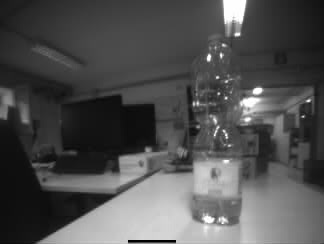Bottle: (191, 33, 242, 223)
